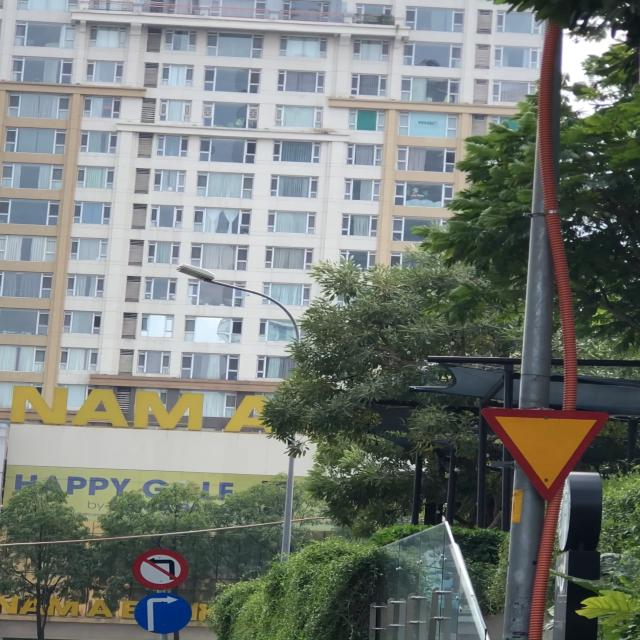Bien bao cam re trai: (130, 547, 190, 590)
Bien bao giao nhau voi duong uu tien: (473, 400, 615, 506)
Bien bao huong di phai theo: (131, 590, 196, 636)
